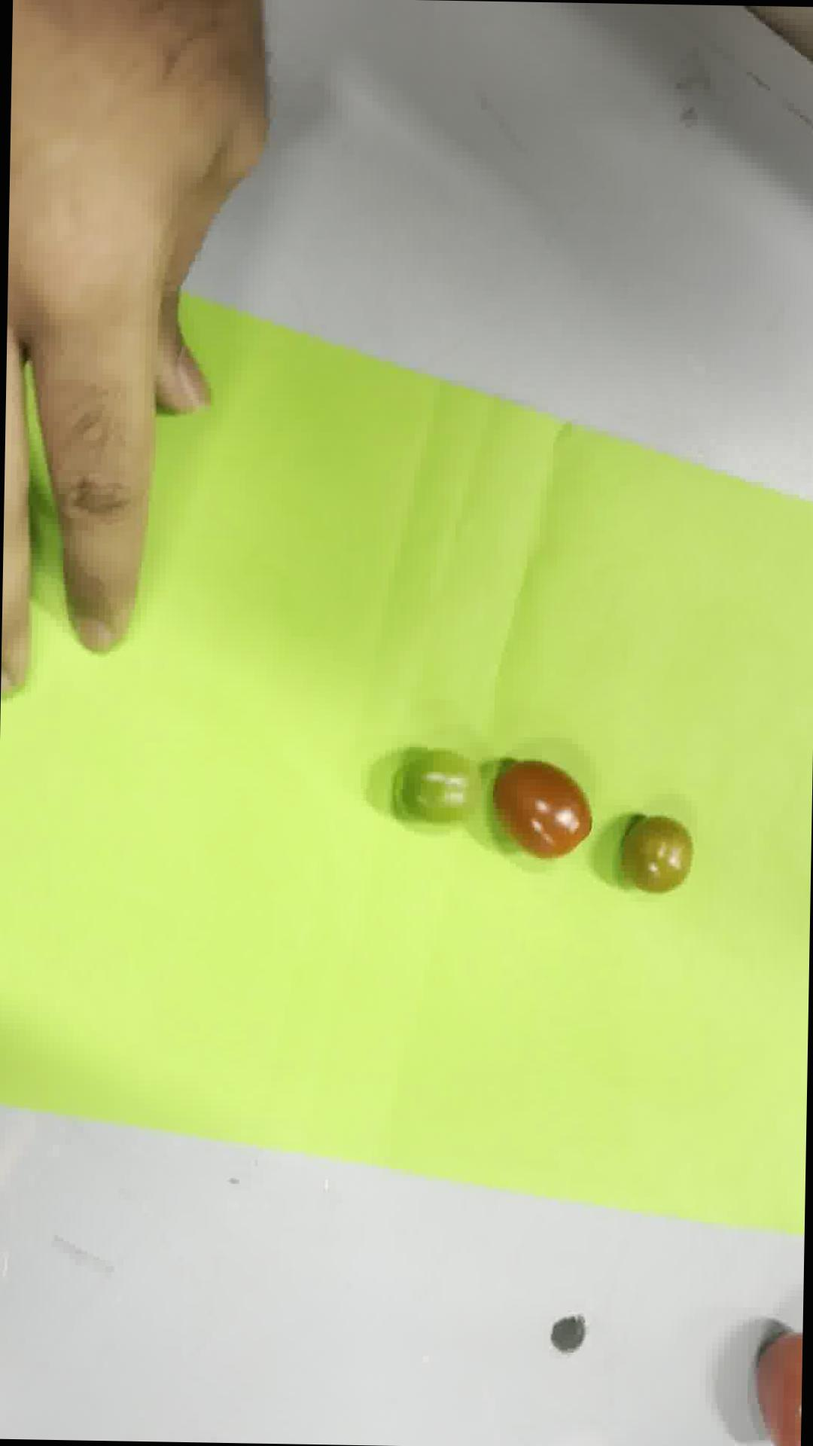green_cherry_tomato: (396, 749, 478, 823)
red_cherry_tomato: (493, 760, 591, 860)
yellow_cherry_tomato: (621, 815, 693, 893)
